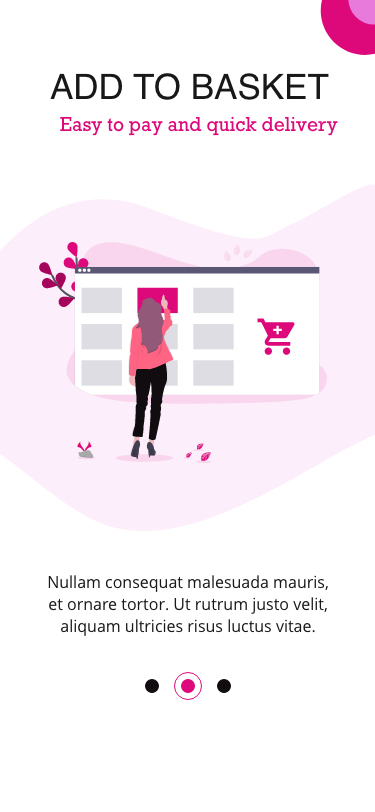Image: (38, 240, 328, 464)
PageIndicator: (144, 670, 233, 702)
Text: (48, 574, 329, 637), (51, 73, 330, 102), (60, 117, 339, 137)
